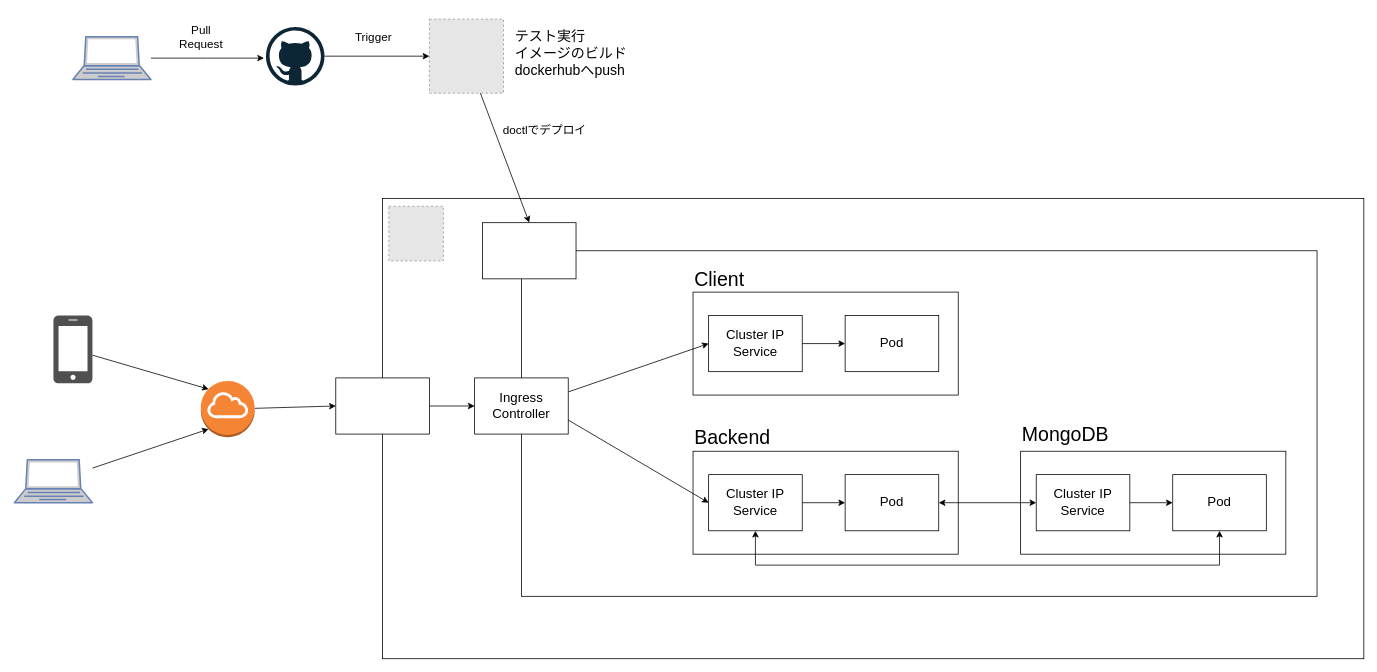
This 1377x672 diagram has some shape labels left out. Grey dashed boxes stand in for pictures. Each missing label, with the centre of its shape:
"kubernetes" belongs at pixel 529 250.
"Load Balancer" belongs at pixel 382 405.
